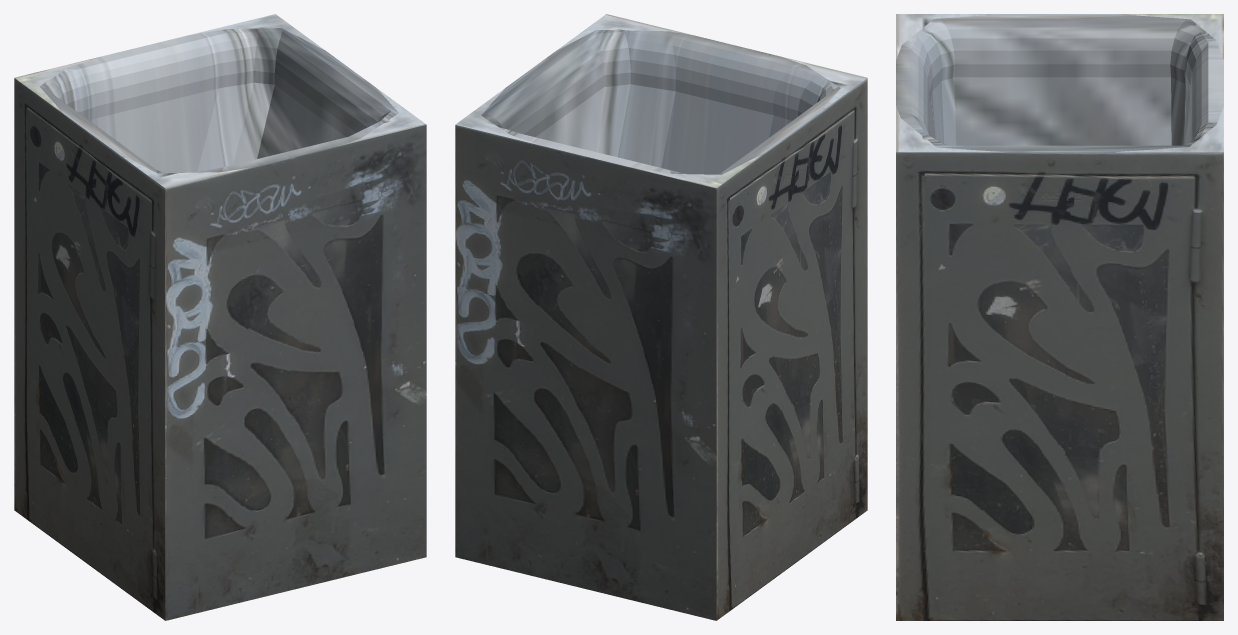
Rendered from Poubelle.fbx.
3 renders of one model, left to right at view 1: azimuth 30°, elevation 25°; view 2: azimuth 150°, elevation 25°; view 3: azimuth 270°, elevation 25°, orthographic. The views are drawn at different scales.
Visible parts, largest first — view 1: Poubelle; view 2: Poubelle; view 3: Poubelle.
Boxes of the visible parts, x1,y1,x2,y2 form: Poubelle: (14, 14, 426, 620); Poubelle: (455, 14, 867, 620); Poubelle: (896, 14, 1223, 620).
Size of the model in its own units: 0.6343 by 0.6357 by 1.
Materials: 1 (1 with a texture image).
